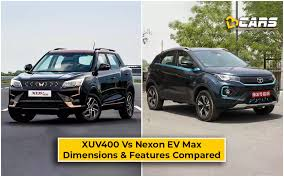XUV 400: (7, 43, 136, 126)
